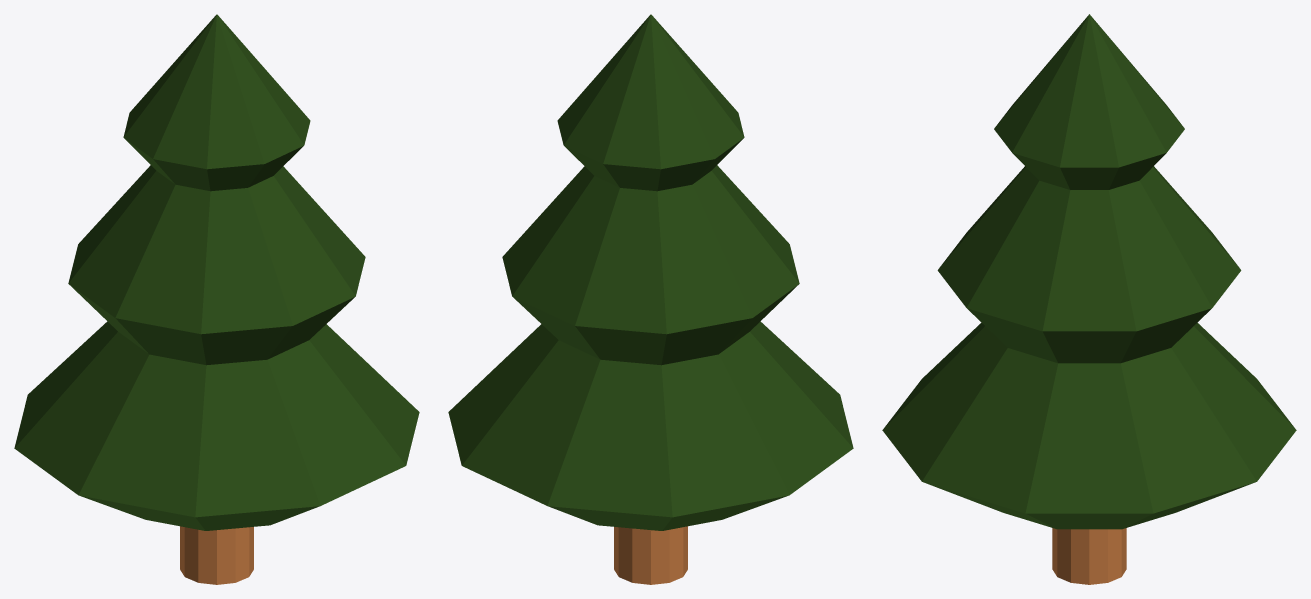
The model's file is TREEEE.fbx.
The picture shows the model from 3 angles, left to right: view 1: azimuth 30°, elevation 25°; view 2: azimuth 150°, elevation 25°; view 3: azimuth 270°, elevation 25°; orthographic projection.
Parts seen in each view (by area): view 1: Sphere; view 2: Sphere; view 3: Sphere.
Boxes of the visible parts, x1,y1,x2,y2 form: Sphere: (14, 14, 419, 584); Sphere: (448, 14, 853, 584); Sphere: (882, 14, 1296, 584).
Size of the model in its own units: 283 by 441 by 298.
